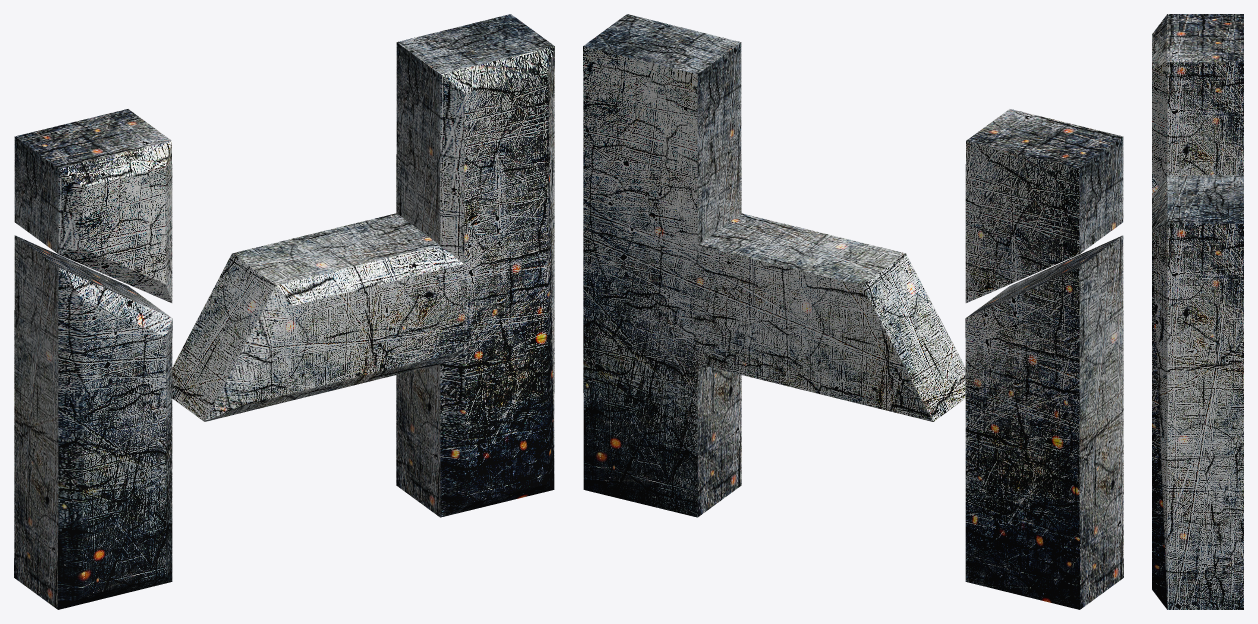
The picture shows the model from 3 angles, left to right: view 1: azimuth 30°, elevation 25°; view 2: azimuth 150°, elevation 25°; view 3: azimuth 270°, elevation 25°; orthographic projection. The views are drawn at different scales.
Visible parts, largest first — view 1: H; view 2: H; view 3: H.
Boxes of the visible parts, box(x1,y1,x2,y2) form: H: box(14, 14, 554, 609); H: box(583, 14, 1123, 609); H: box(1152, 14, 1243, 609).
Bounding box in the file's own units: 65.3 × 55.71 × 12.
Materials: 1 (1 with a texture image).
